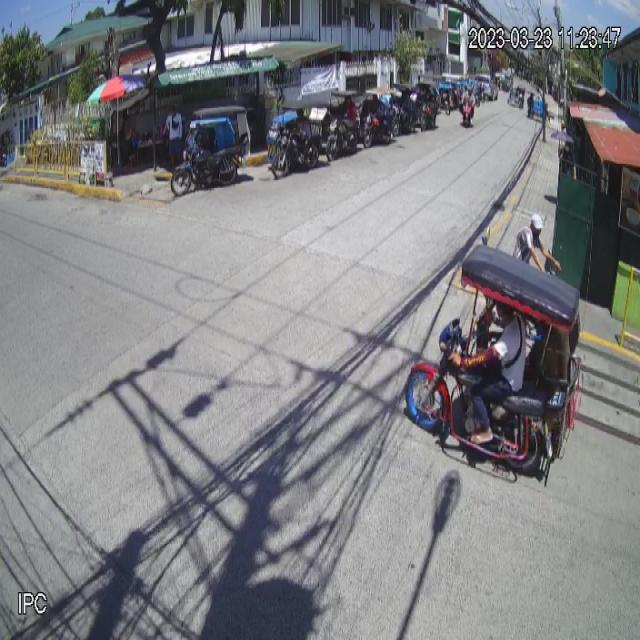Tricycle: (404, 243, 583, 476), (170, 106, 250, 196)
